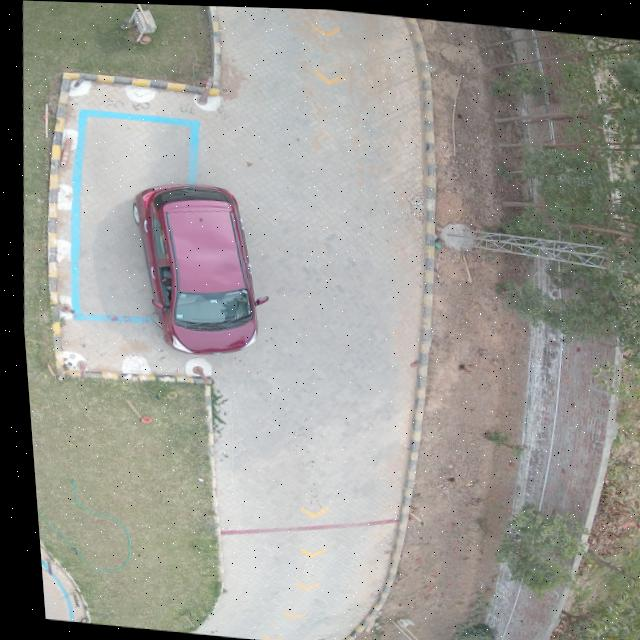car: (129, 182, 262, 353)
